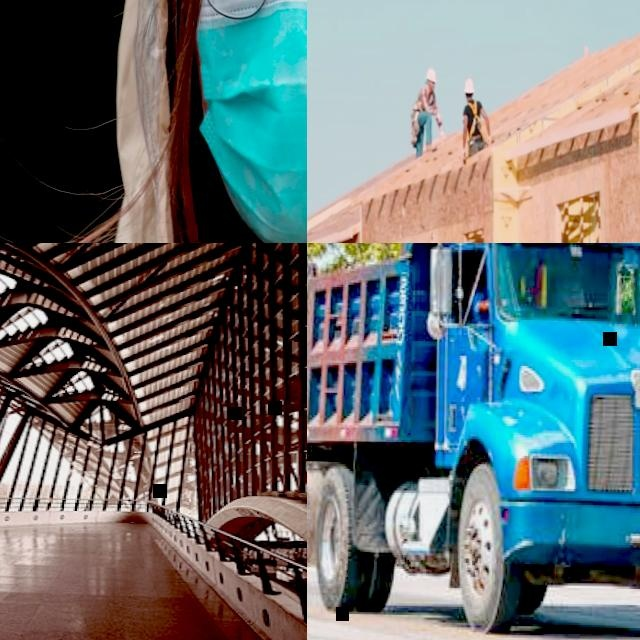Hardhat: (425, 68, 437, 82)
Mask: (188, 0, 307, 243)
NO-Mask: (428, 85, 434, 91)
NO-Safety Vest: (465, 100, 480, 140), (414, 85, 433, 111)
Person: (56, 0, 307, 243), (408, 68, 447, 159), (461, 77, 492, 159)
machinery: (307, 243, 640, 634)
